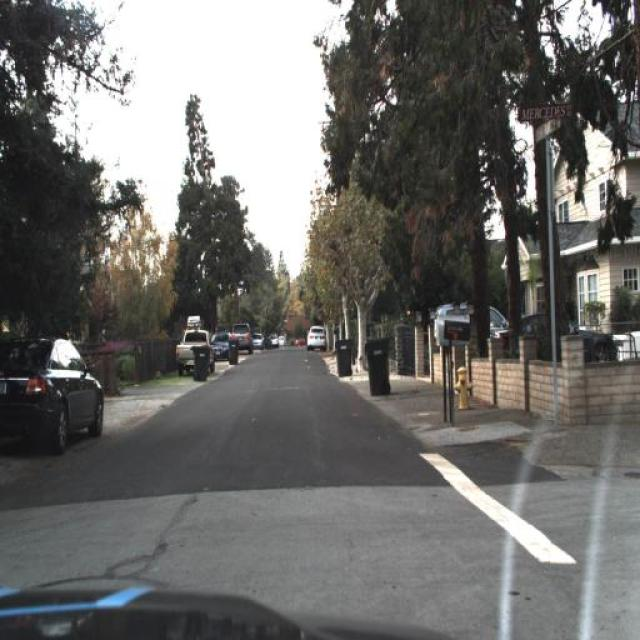car: (0, 333, 115, 453), (484, 304, 618, 365), (406, 294, 486, 344), (166, 323, 210, 381), (206, 326, 230, 368), (211, 324, 235, 364), (302, 318, 326, 354), (228, 320, 250, 356)
